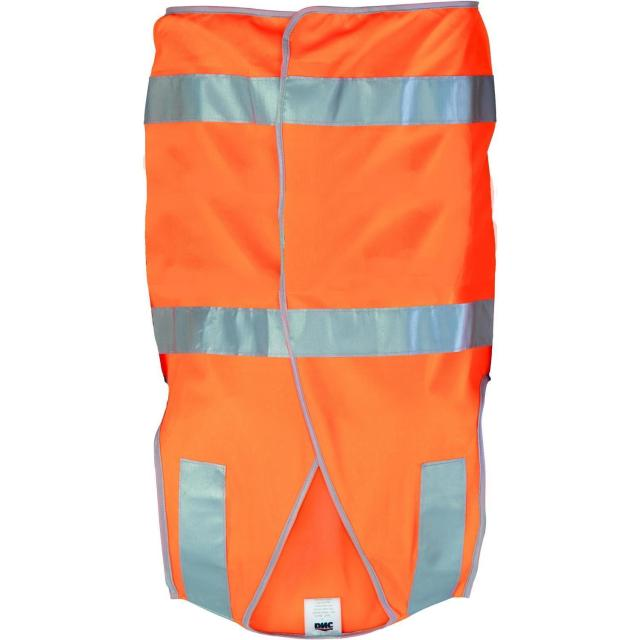jacket: (116, 4, 504, 640)
